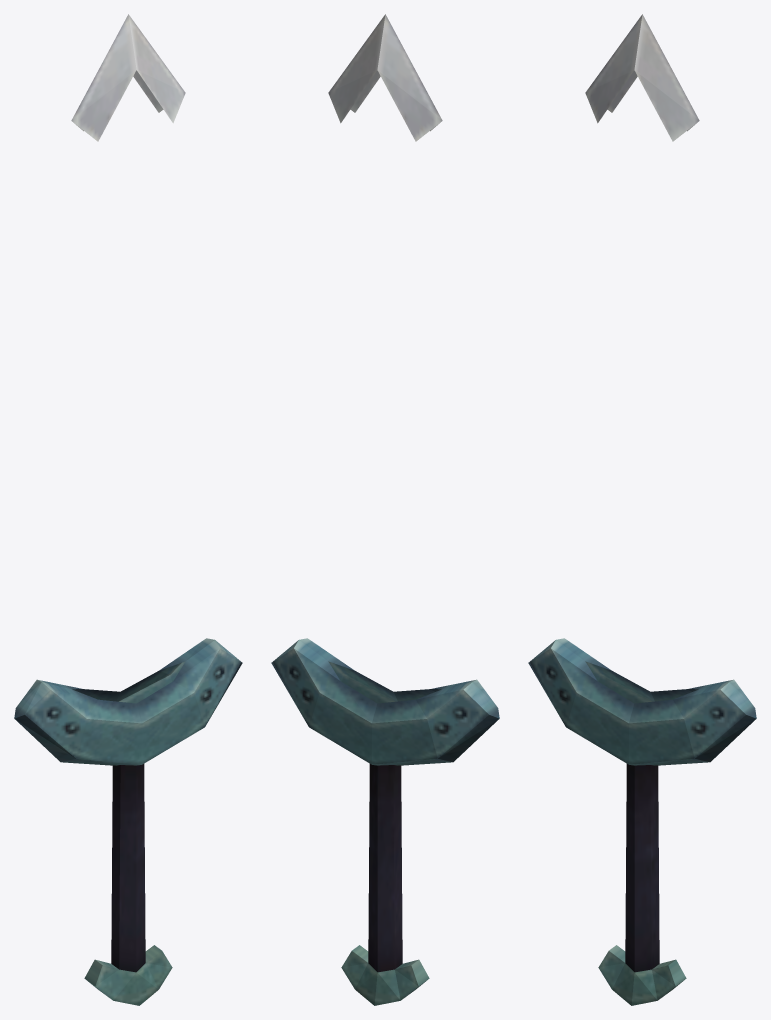
Rendered from Wolf_soldierSword.obj.
3 views of the same model, side by side, from view 1: azimuth 30°, elevation 25°; view 2: azimuth 150°, elevation 25°; view 3: azimuth 330°, elevation 25° (orthographic).
Visible parts, largest first — view 1: Wolf_soldierSword_tri; view 2: Wolf_soldierSword_tri; view 3: Wolf_soldierSword_tri.
Boxes of the visible parts, box(x1,y1,x2,y2) form: Wolf_soldierSword_tri: box(14, 14, 242, 1005); Wolf_soldierSword_tri: box(271, 14, 499, 1005); Wolf_soldierSword_tri: box(528, 14, 756, 1005).
Size of the model in its own units: 0.2879 by 1.19 by 0.0593.
1 material, 1 textured.
